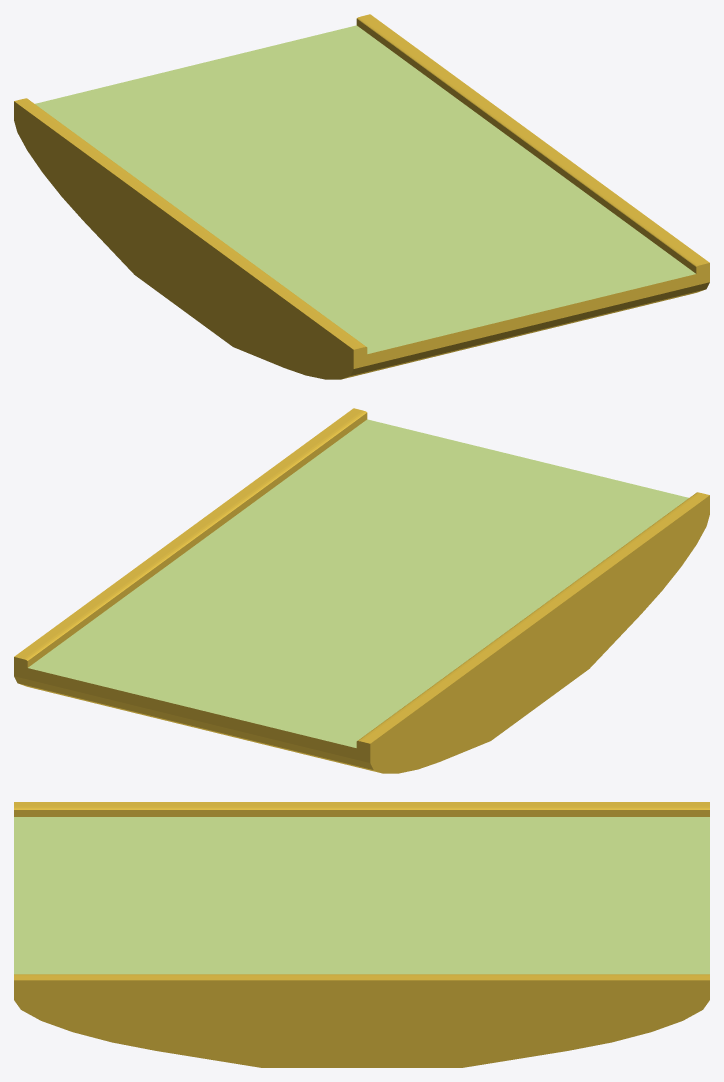
Rendered from jangada.glb.
3 renders of one model, top to bottom at view 1: azimuth 30°, elevation 25°; view 2: azimuth 150°, elevation 25°; view 3: azimuth 270°, elevation 25°, orthographic. The views are drawn at different scales.
Visible parts, largest first — view 1: jangada; view 2: jangada; view 3: jangada.
Part boxes in pixels (x1=…): jangada: x1=14, y1=14, x2=709, y2=379; jangada: x1=14, y1=408, x2=709, y2=773; jangada: x1=14, y1=802, x2=709, y2=1067.
Bounding box in the file's own units: 4.55 × 1.04 × 7.52.
